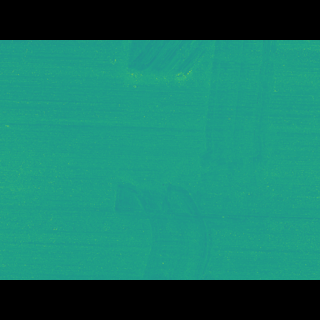Loch: (111, 68, 271, 183), (111, 174, 227, 249)
